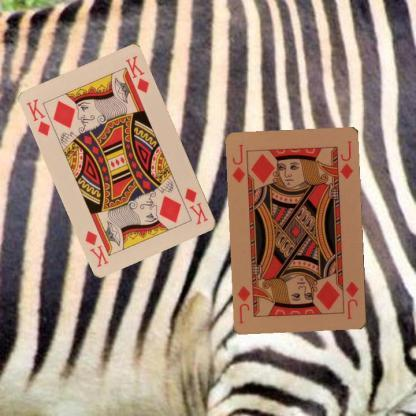Jd: (230, 142, 250, 186), (343, 278, 360, 321)
Kd: (23, 96, 52, 138), (182, 186, 210, 226)
